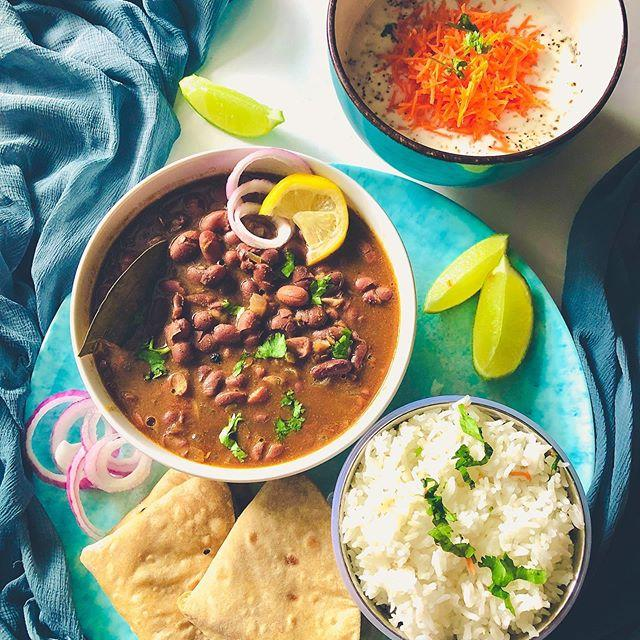Lobia Curry: (128, 212, 382, 434)
Roti: (182, 466, 358, 640)
White Rice: (336, 403, 594, 640)
